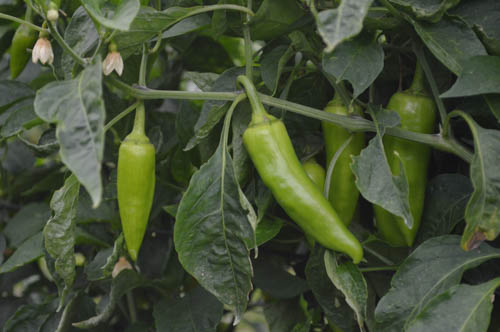ChiliPepper: (247, 118, 363, 263), (379, 91, 439, 251), (321, 105, 368, 232), (117, 142, 154, 263)
